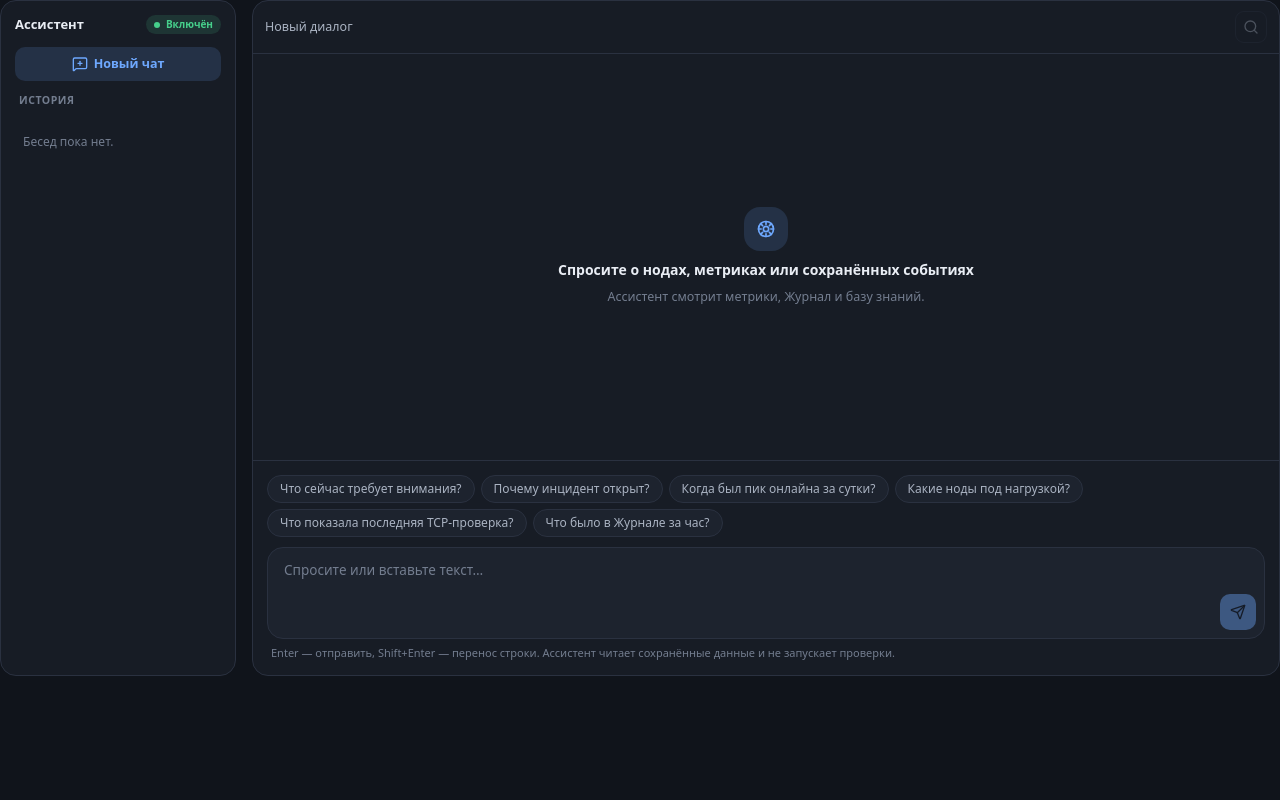
Scenario: AssistantPage › ответ без пузыря, несколько сообщений, источники › исторические серверные упоминания не получают состояние текущих нод
Type "а по каким серверам больше событий" into the text box named "Сообщение Ассистенту" at (766, 570), box x1=276 y1=556 x2=1256 y2=586
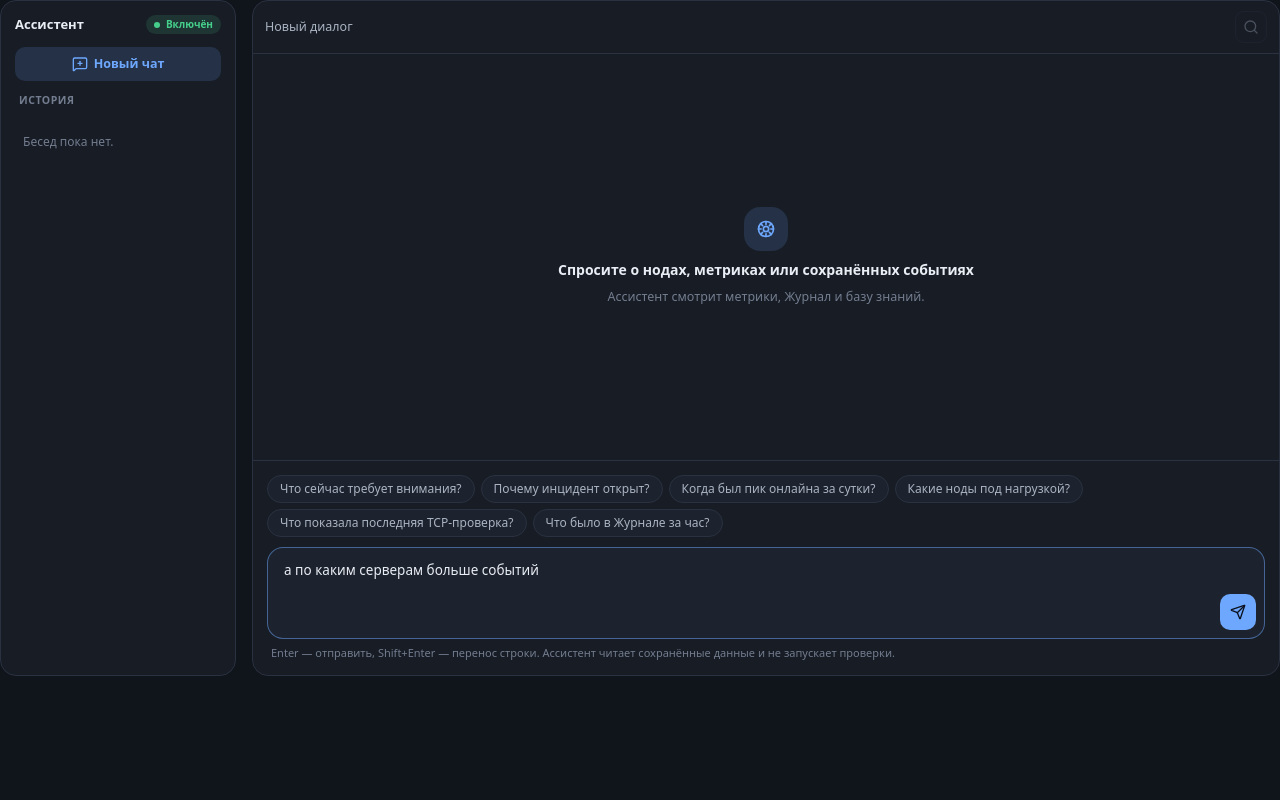
Click the button named "Отправить" at (1238, 612), box x1=1220 y1=594 x2=1256 y2=630
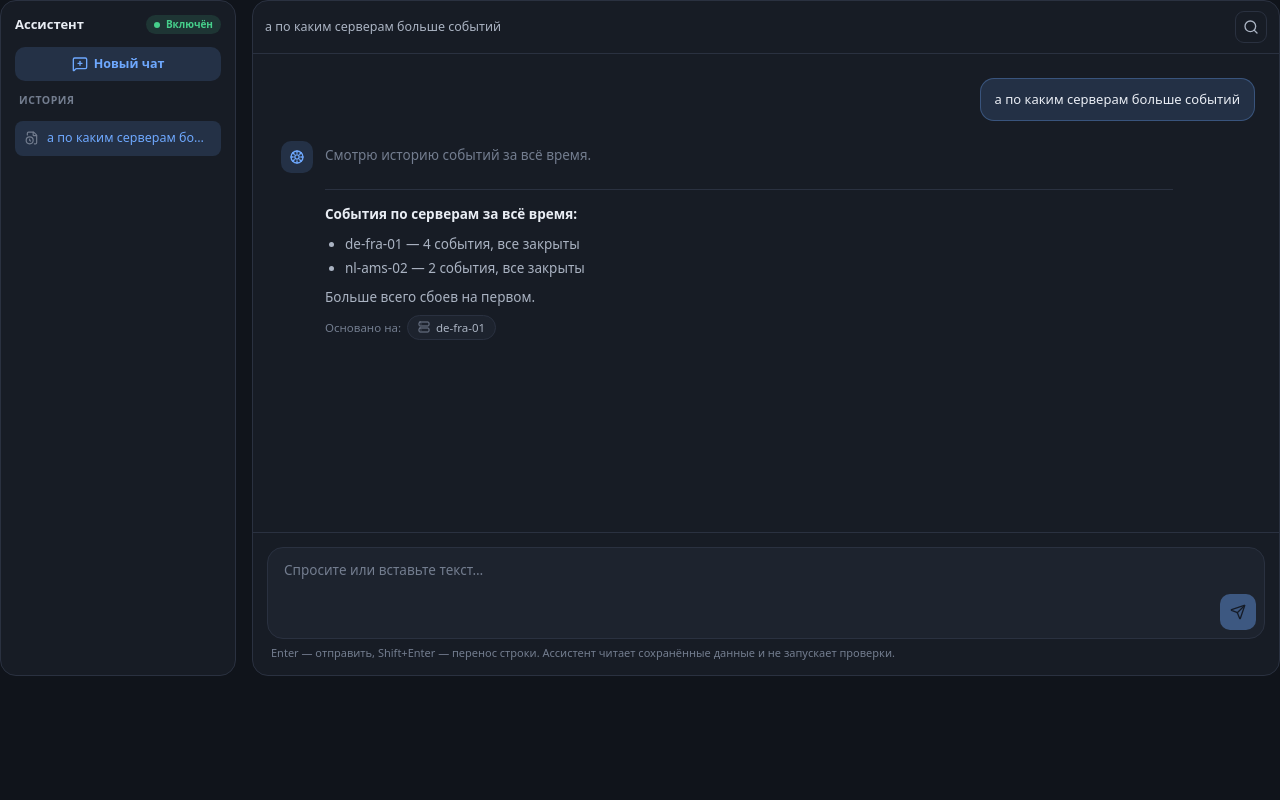
Result: the text "События по серверам за всё время:" is shown at x1=325 y1=205 x2=577 y2=223
